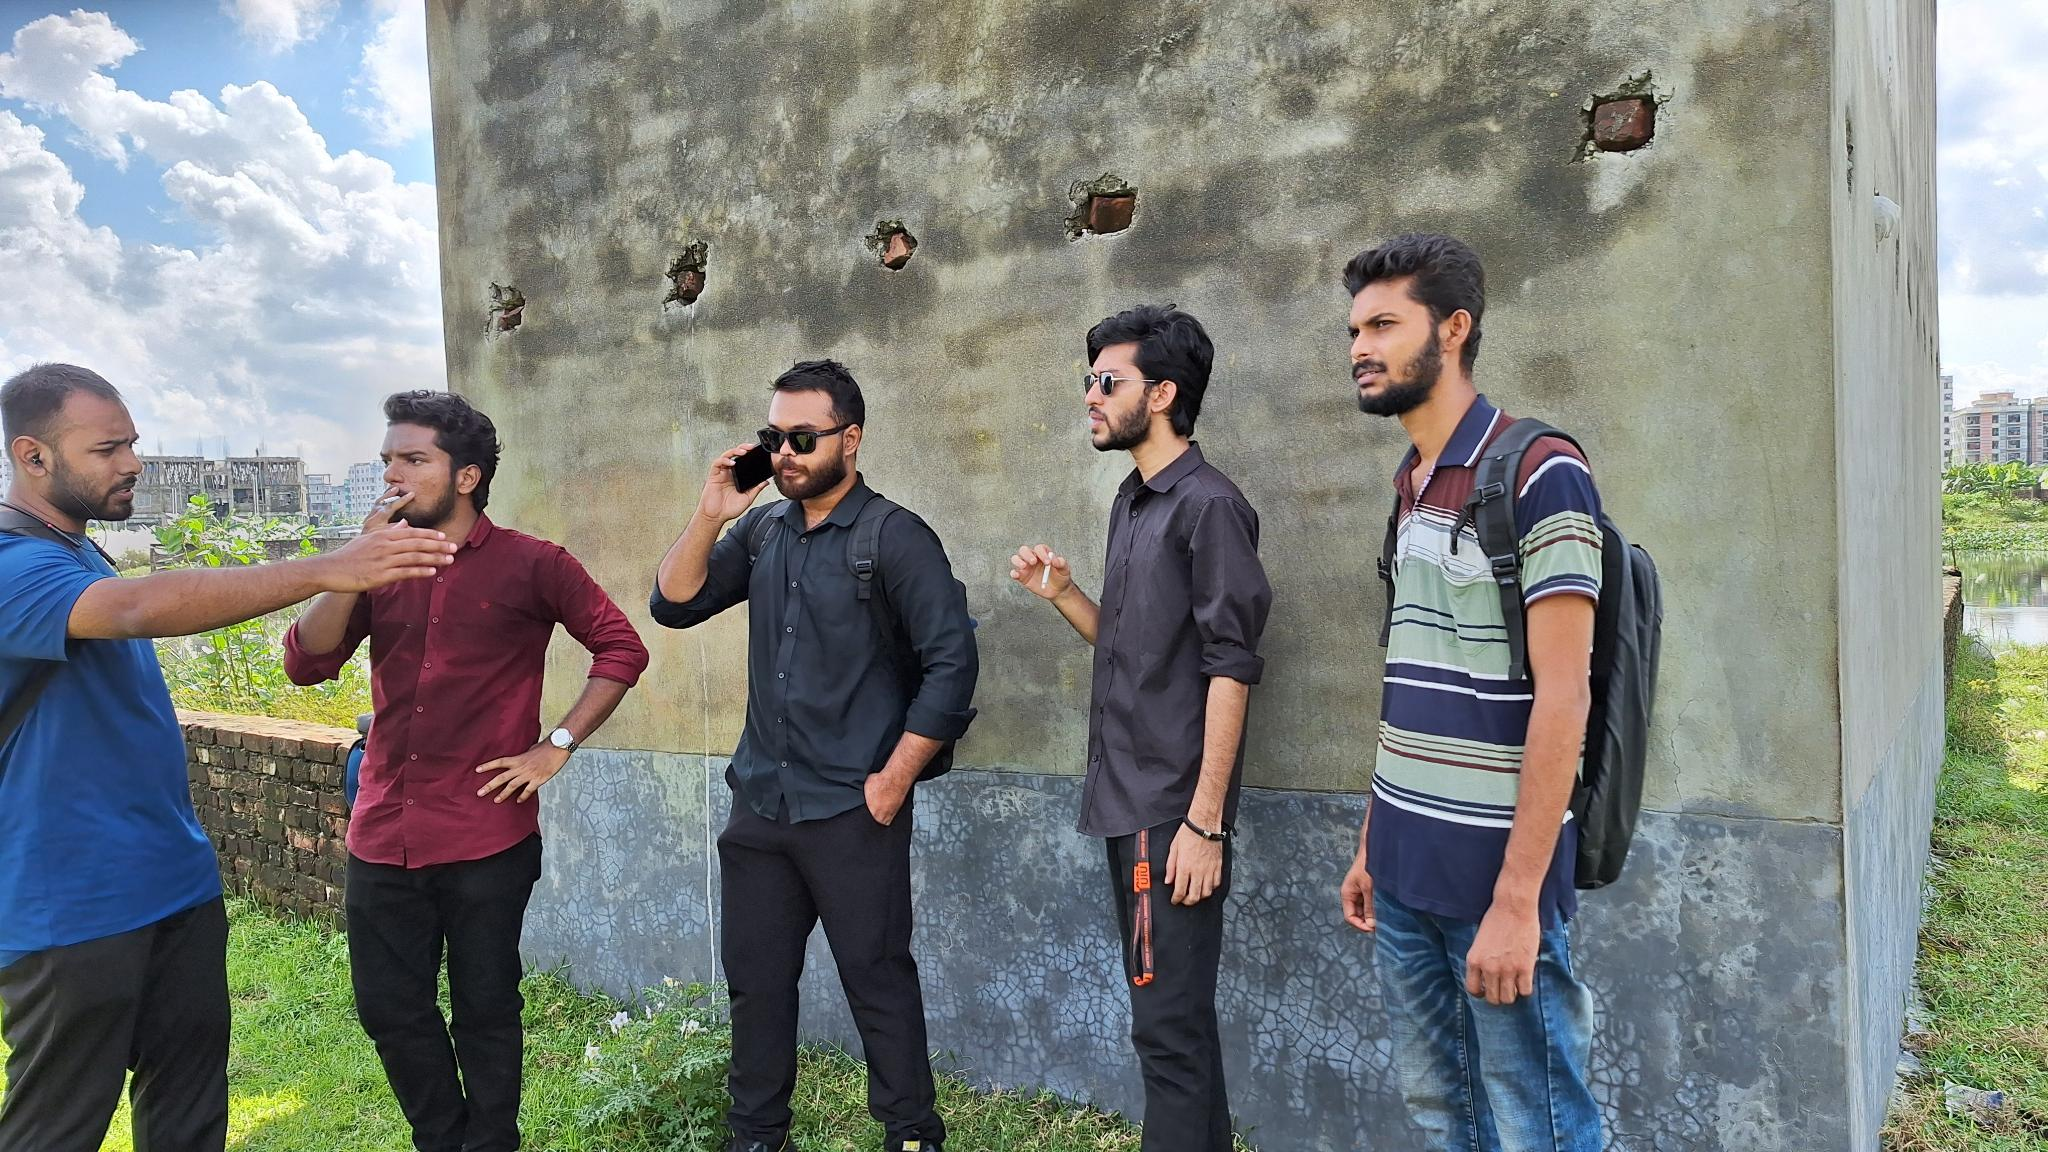cigarette: (1038, 550, 1055, 592), (377, 494, 402, 506)
nonSmoker: (0, 361, 457, 1152), (1338, 233, 1665, 1152), (648, 359, 979, 1152)
smoker: (283, 390, 648, 1152), (1009, 307, 1272, 1152)
